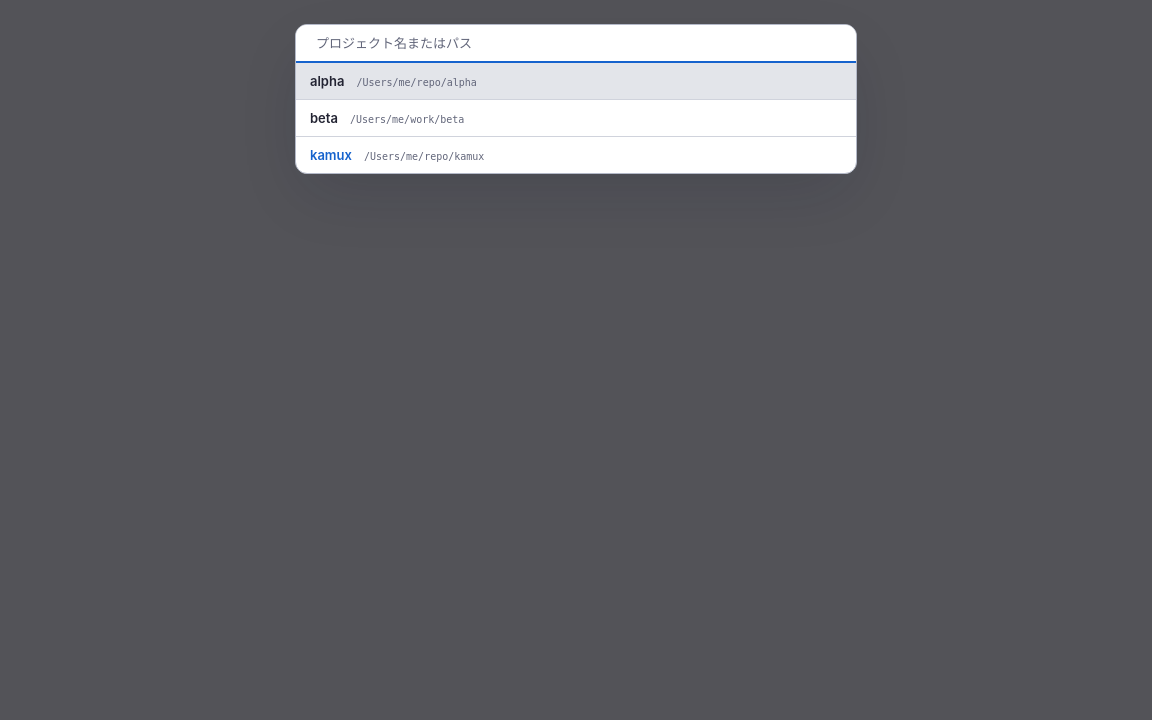
ProjectSwitcher › 入力ごとにインクリメンタルに絞り込む
The width and height of the screenshot is (1152, 720).
Step 1. Type "kmx" into the dropdown → (576, 44), box [296, 25, 856, 63]
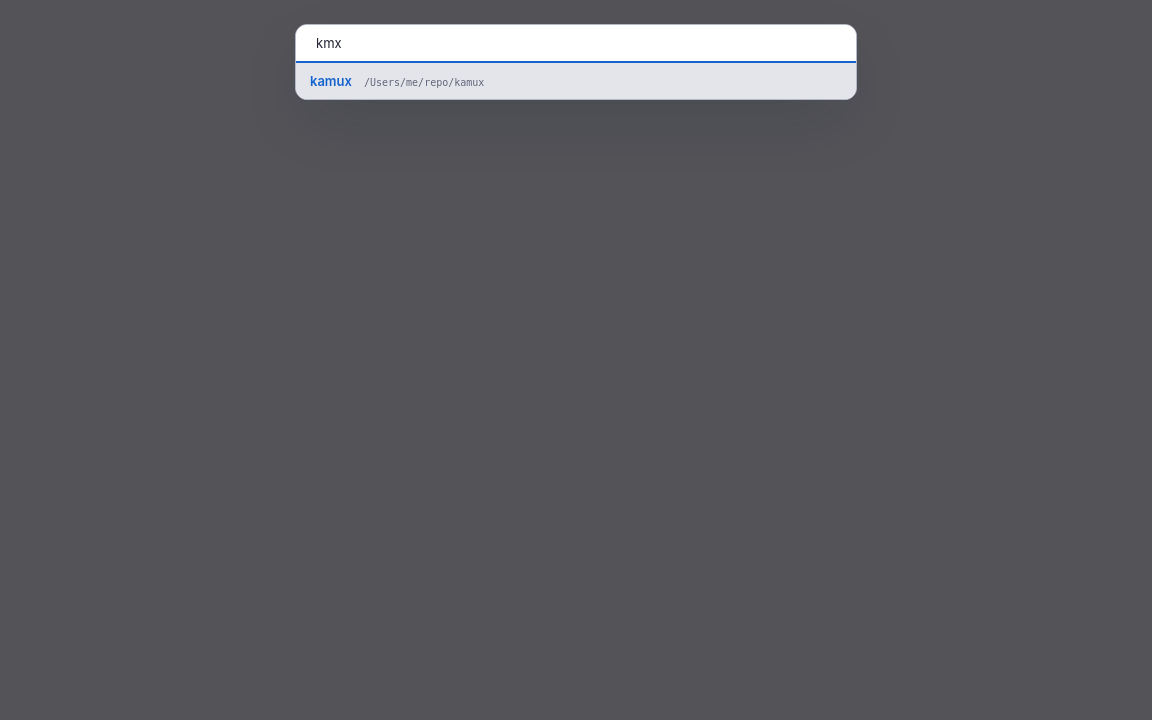
Expected: the option shows "kamux", [296, 63, 856, 99]
Expected: the number of options is 1, [296, 63, 856, 99]
